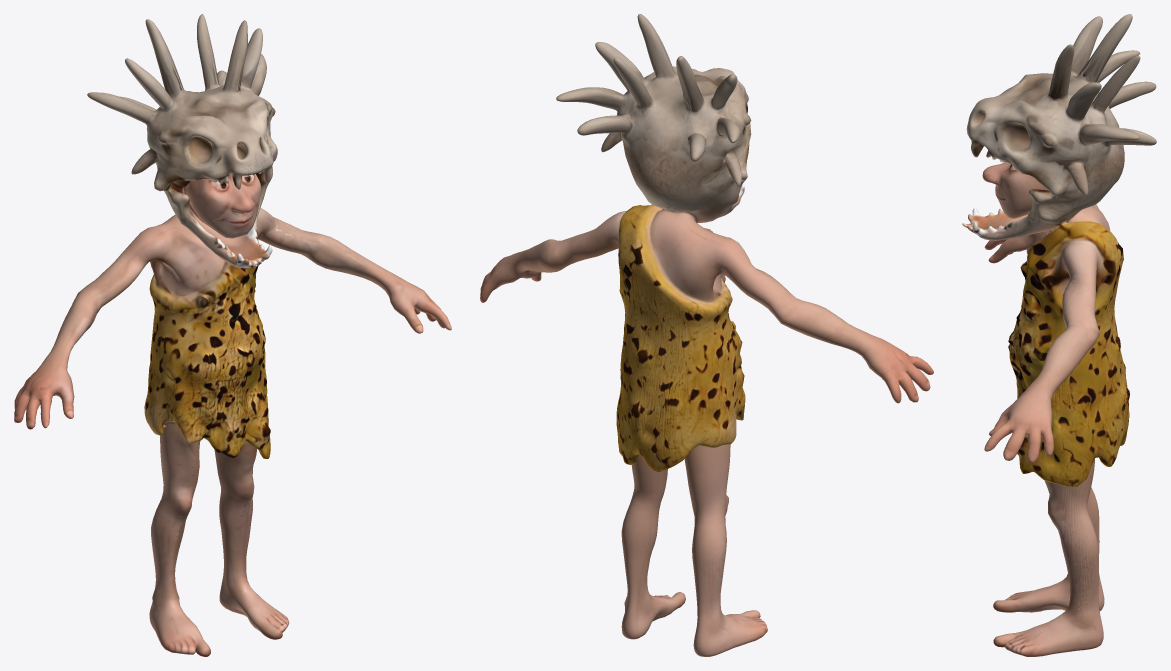
The model's file is rodin_g.glb.
The picture shows the model from 3 angles, left to right: view 1: azimuth 30°, elevation 25°; view 2: azimuth 150°, elevation 25°; view 3: azimuth 270°, elevation 25°; orthographic projection. The views are drawn at different scales.
Visible parts, largest first — view 1: model; view 2: model; view 3: model.
Boxes of the visible parts, x1=… form: model: x1=14, y1=14, x2=451, y2=656; model: x1=480, y1=14, x2=933, y2=656; model: x1=962, y1=14, x2=1156, y2=656.
Bounding box in the file's own units: 1.41 × 1.89 × 0.5536.
1 material, 1 textured.
